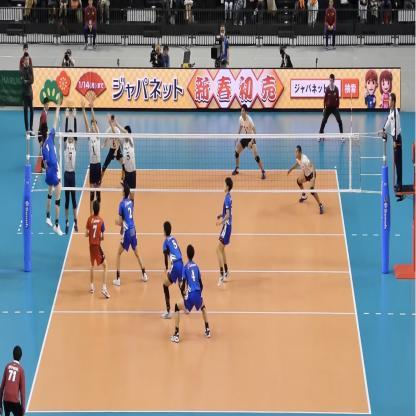spike: (37, 96, 70, 240)
